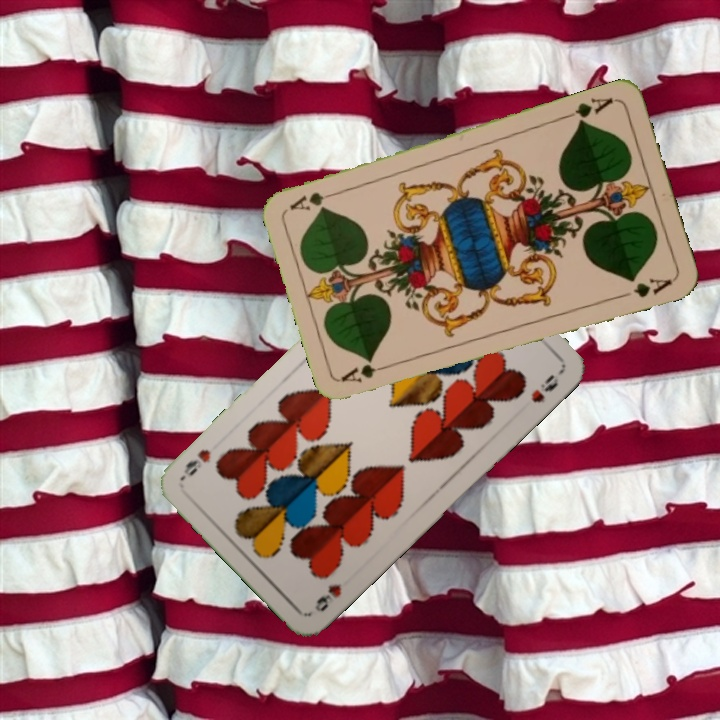GA: (560, 93, 616, 128), (338, 358, 397, 386)
H9: (310, 579, 344, 614)
